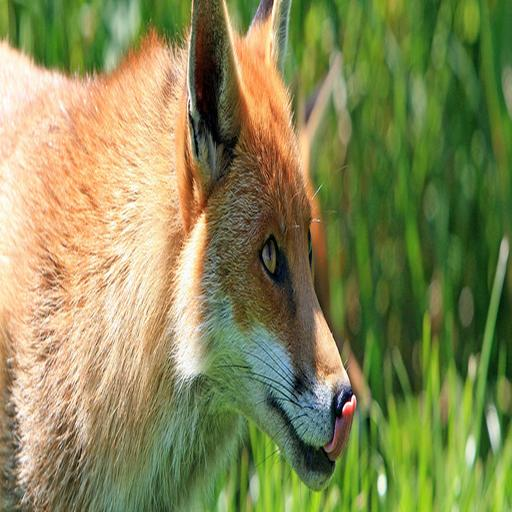Fox: (0, 0, 363, 512)
